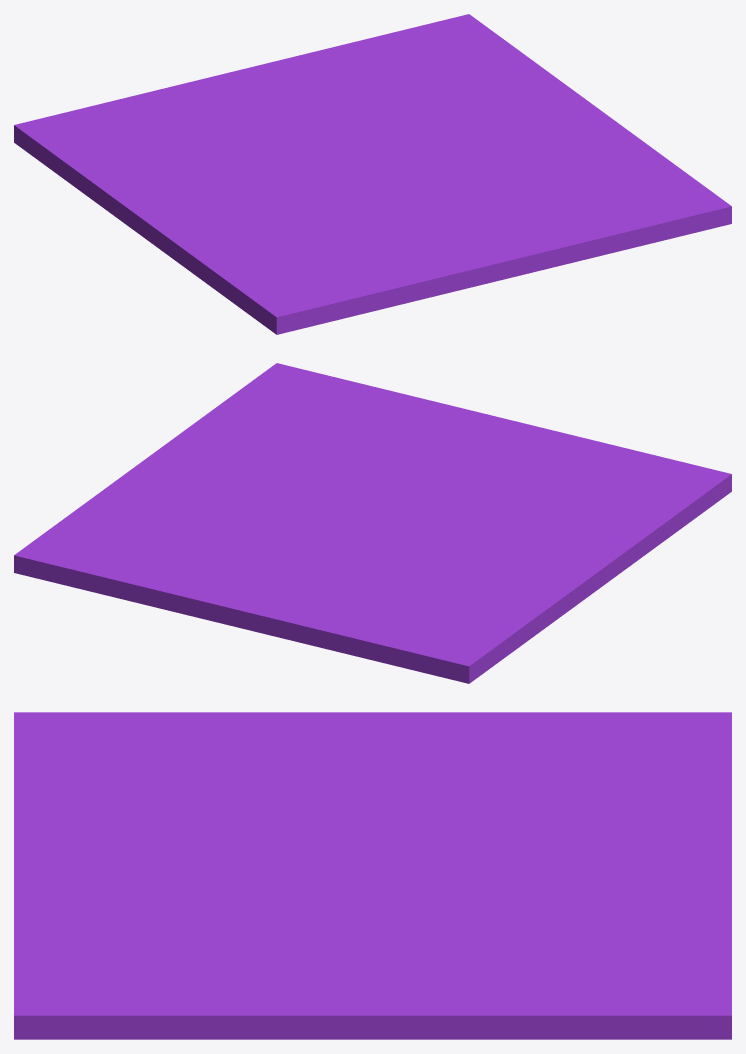
Rendered from Platform_57_chunks.fbx.
3 renders of one model, top to bottom at view 1: azimuth 30°, elevation 25°; view 2: azimuth 150°, elevation 25°; view 3: azimuth 270°, elevation 25°, orthographic. The views are drawn at different scales.
Parts seen in each view (by area): view 1: Platform_57_0, Platform_57_10, Platform_57_4, Platform_57_1, Platform_57_11, Platform_57_3, Platform_57_7, Platform_57_9, Platform_57_15, Platform_57_14, Platform_57_12, Platform_57_6 (+3 smaller); view 2: Platform_57_4, Platform_57_0, Platform_57_10, Platform_57_1, Platform_57_3, Platform_57_7, Platform_57_12, Platform_57_11, Platform_57_15, Platform_57_9, Platform_57_14, Platform_57_6 (+4 smaller); view 3: Platform_57_4, Platform_57_0, Platform_57_10, Platform_57_7, Platform_57_1, Platform_57_3, Platform_57_11, Platform_57_5, Platform_57_9, Platform_57_15, Platform_57_12, Platform_57_6 (+3 smaller).
Part boxes in pixels (x1,y1,x2,y2): Platform_57_0: [134, 175, 373, 334]; Platform_57_10: [328, 183, 526, 310]; Platform_57_4: [344, 14, 534, 137]; Platform_57_1: [59, 143, 323, 229]; Platform_57_11: [512, 185, 731, 273]; Platform_57_3: [240, 44, 376, 167]; Platform_57_7: [484, 129, 731, 224]; Platform_57_9: [347, 163, 585, 206]; Platform_57_15: [167, 56, 297, 145]; Platform_57_14: [21, 124, 210, 176]; Platform_57_12: [14, 70, 237, 147]; Platform_57_6: [367, 130, 491, 174]; Platform_57_4: [14, 480, 302, 605]; Platform_57_0: [405, 461, 731, 595]; Platform_57_10: [405, 414, 679, 515]; Platform_57_1: [394, 525, 597, 648]; Platform_57_3: [139, 515, 405, 610]; Platform_57_7: [175, 368, 335, 484]; Platform_57_12: [235, 611, 476, 683]; Platform_57_11: [269, 363, 486, 440]; Platform_57_15: [177, 574, 412, 618]; Platform_57_9: [308, 427, 420, 518]; Platform_57_14: [391, 584, 516, 677]; Platform_57_6: [256, 469, 365, 534]; Platform_57_4: [370, 885, 731, 1039]; Platform_57_0: [14, 712, 379, 844]; Platform_57_10: [14, 746, 341, 894]; Platform_57_7: [14, 913, 376, 1039]; Platform_57_1: [364, 712, 608, 829]; Platform_57_3: [372, 812, 731, 931]; Platform_57_11: [14, 875, 171, 1032]; Platform_57_5: [261, 961, 599, 1039]; Platform_57_9: [158, 839, 378, 956]; Platform_57_15: [527, 789, 731, 901]; Platform_57_12: [630, 712, 731, 861]; Platform_57_6: [273, 867, 476, 942].
Bounding box in the file's own units: 810 × 29.87 × 810.
